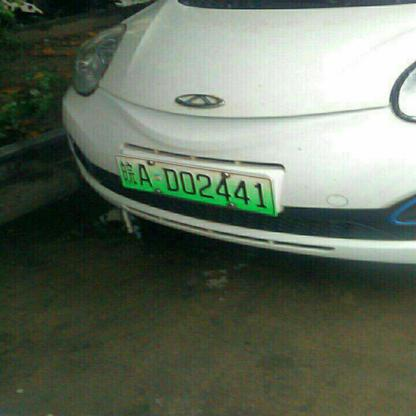lp: (114, 154, 276, 216)
